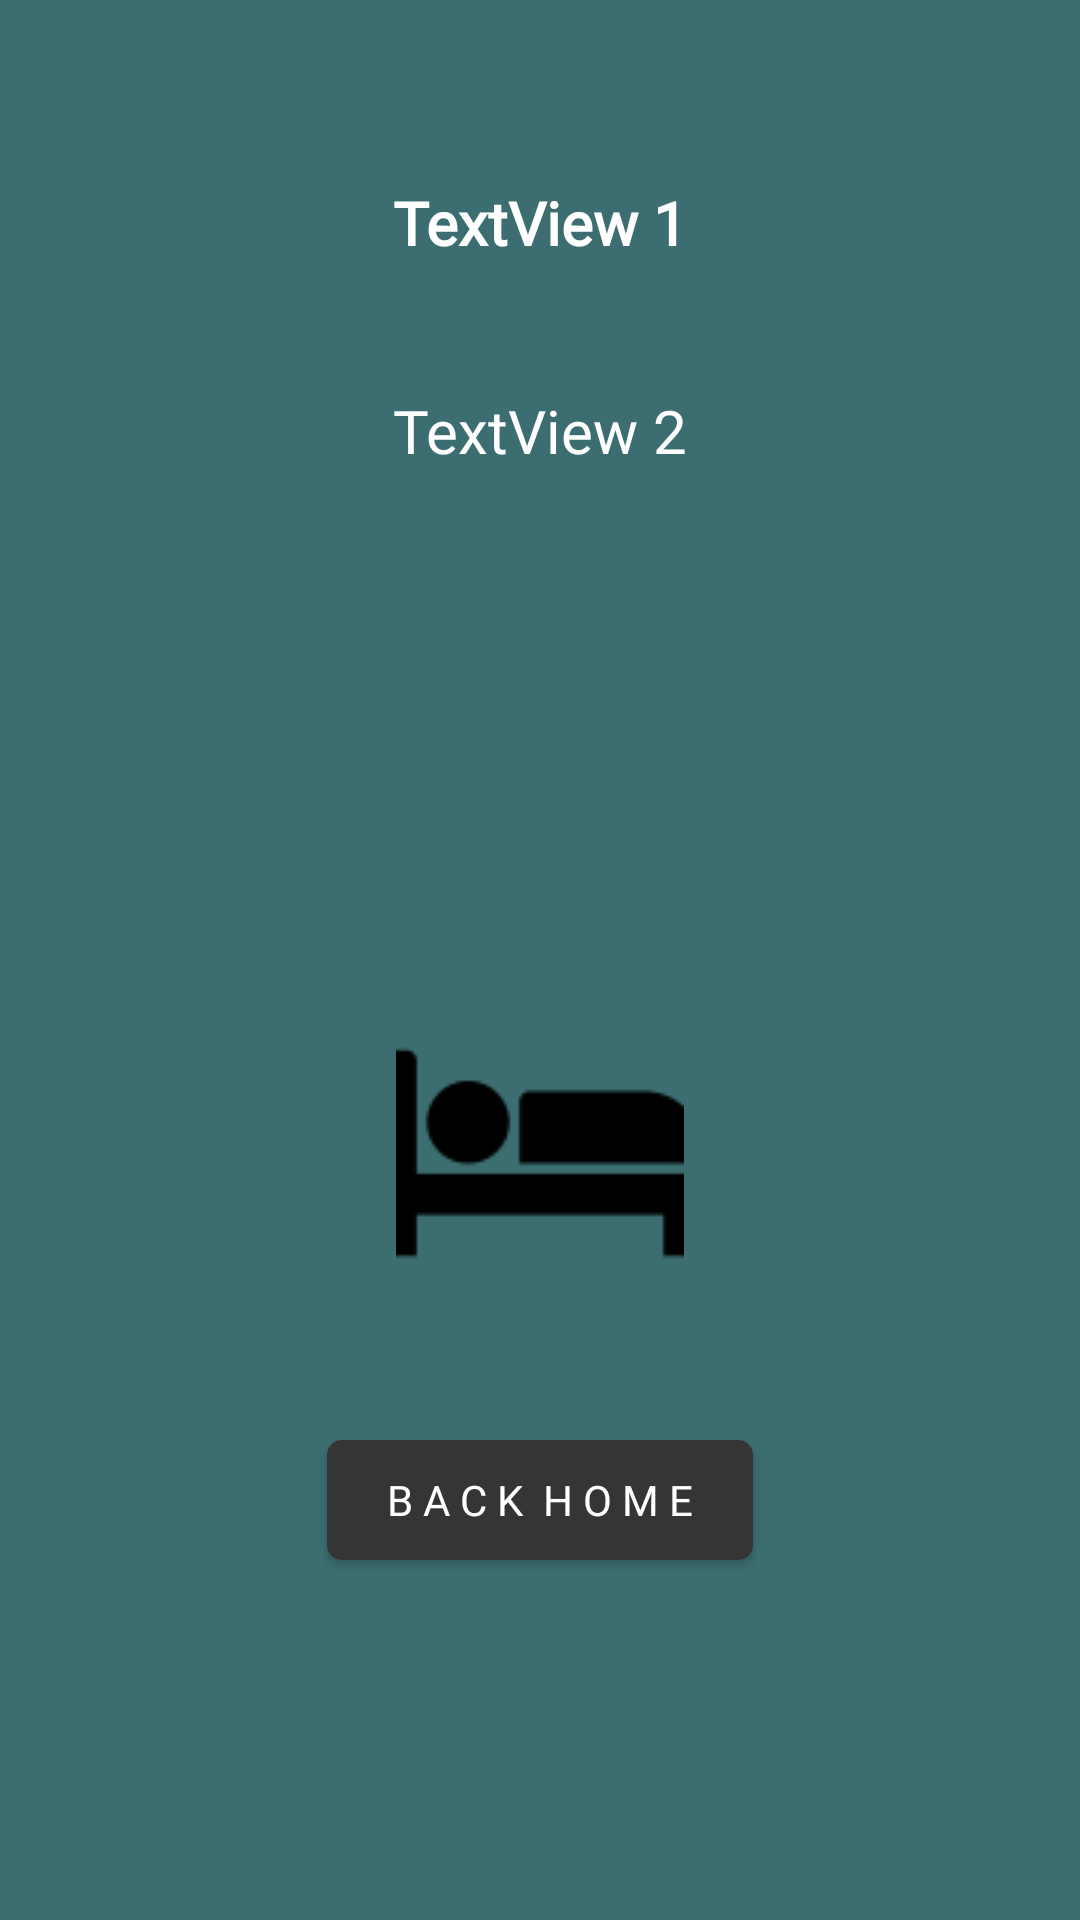

Icons on this 1080px×1920px Android screen, each with its box as (x1, y1, x2, y2):
bed: (396, 1049, 684, 1258)
